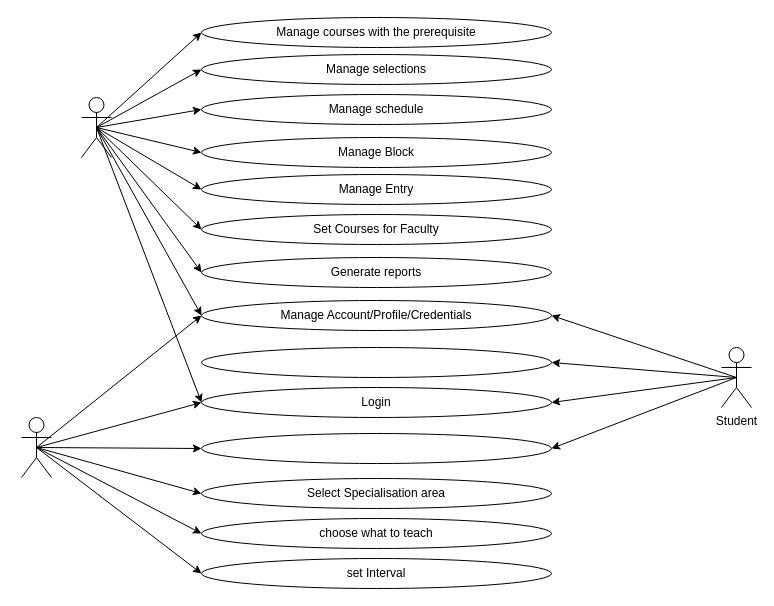
The diagram is 774 pixels wide and 606 high, and some of its shapes have lost their labels. Here are the shapes that lost their labels. From the top down, the centre of each, then its label:
At [96,127]: "Admin".
At [376,362]: "Register to a cours".
At [36,447]: "Faculty".
At [376,448]: "Create Profile".
